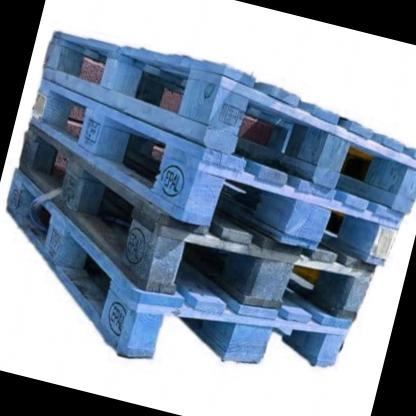BoxFace: (3, 165, 354, 372), (38, 27, 416, 217), (29, 79, 408, 266)
